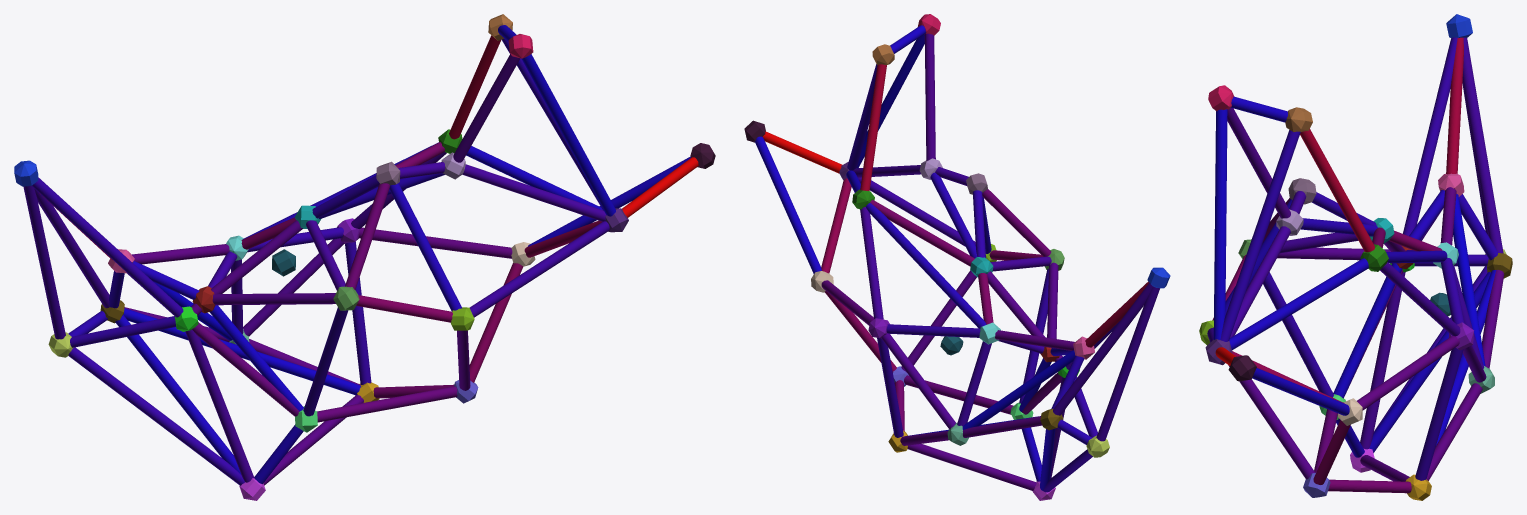
File: fg-00040-skel.obj
The picture shows the model from 3 angles, left to right: view 1: azimuth 30°, elevation 25°; view 2: azimuth 150°, elevation 25°; view 3: azimuth 270°, elevation 25°; orthographic projection. The views are drawn at different scales.
Size of the model in its own units: 0.2488 by 0.1861 by 0.1085.
